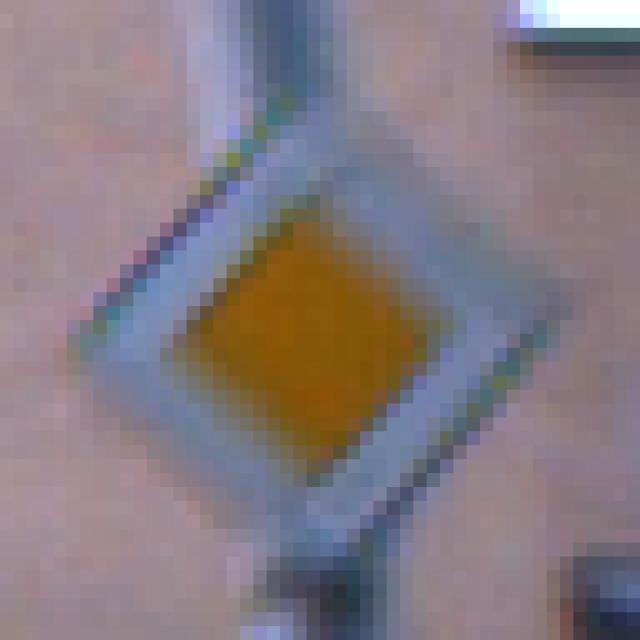Main Road: (68, 85, 574, 572)
